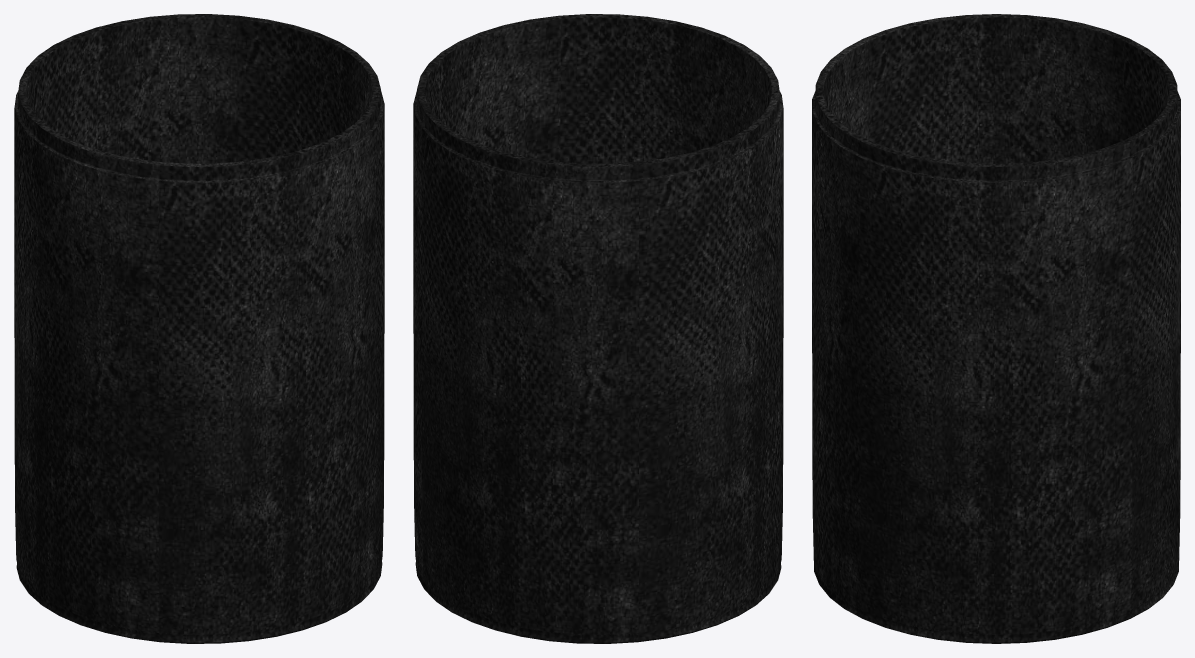
File: XD-茶具收纳桶.fbx
3 renders of one model, left to right at view 1: azimuth 30°, elevation 25°; view 2: azimuth 150°, elevation 25°; view 3: azimuth 270°, elevation 25°, orthographic.
Visible parts, largest first — view 1: XD-茶具收纳桶; view 2: XD-茶具收纳桶; view 3: XD-茶具收纳桶.
Boxes of the visible parts, x1,y1,x2,y2 form: XD-茶具收纳桶: [14, 14, 384, 643]; XD-茶具收纳桶: [413, 14, 783, 643]; XD-茶具收纳桶: [812, 14, 1180, 643].
Size of the model in its own units: 0.0834 by 0.0831 by 0.1187.
